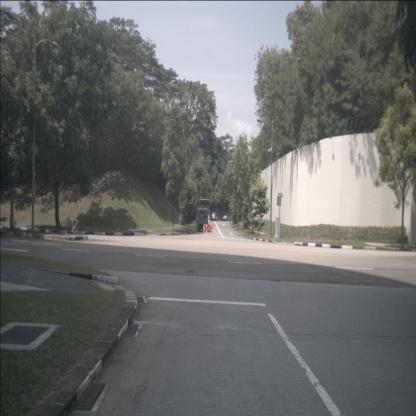vehicle-car: (222, 214, 233, 221), (210, 212, 218, 221)
vehicle-truck: (196, 198, 210, 232)
